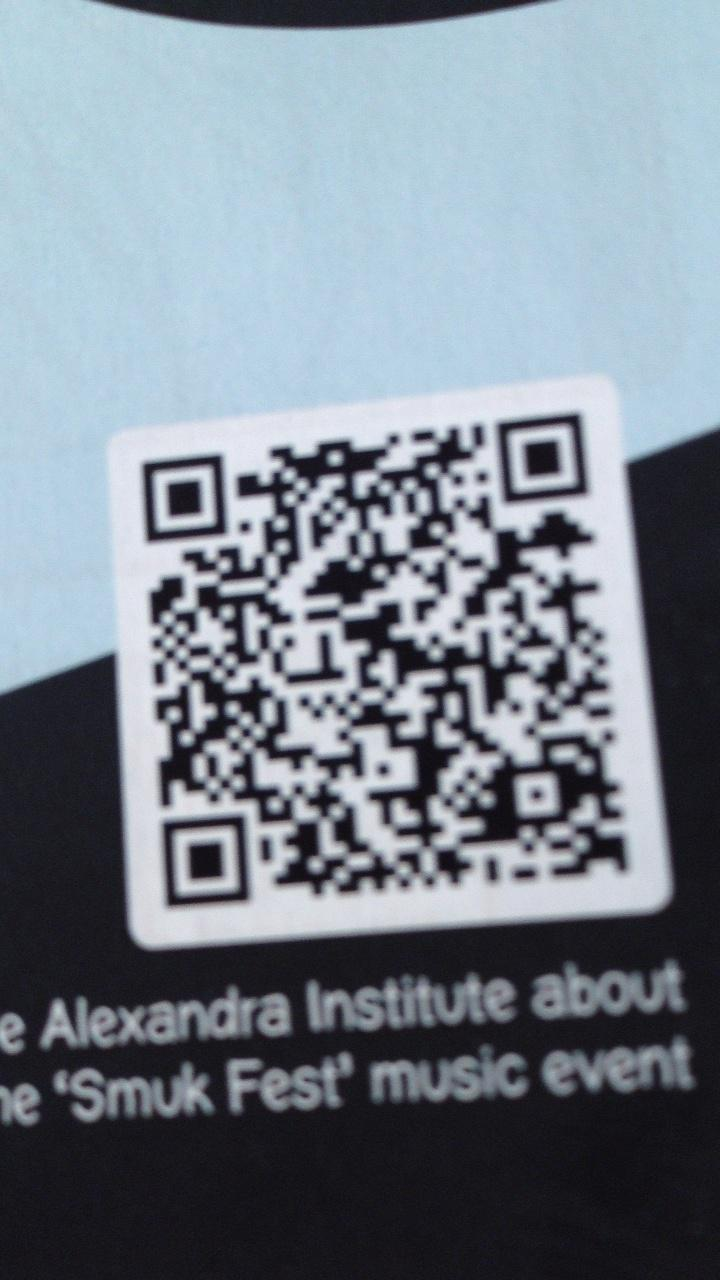Finder pattern: (152, 808, 259, 912), (489, 409, 593, 507), (133, 449, 230, 544)
